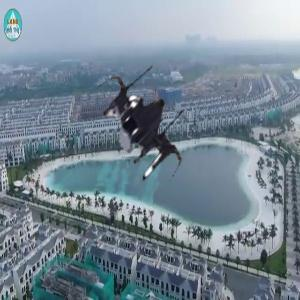drone: (79, 64, 205, 190)
